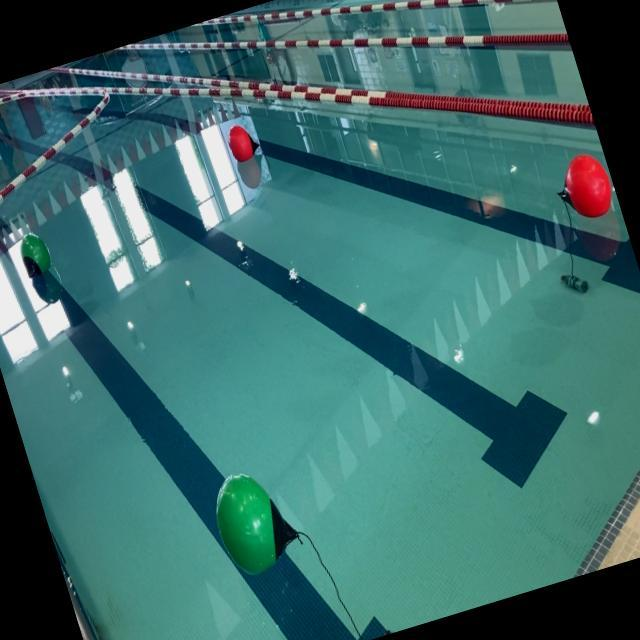buoy: (203, 459, 307, 584), (548, 146, 620, 227), (14, 226, 56, 282), (222, 118, 264, 165)
